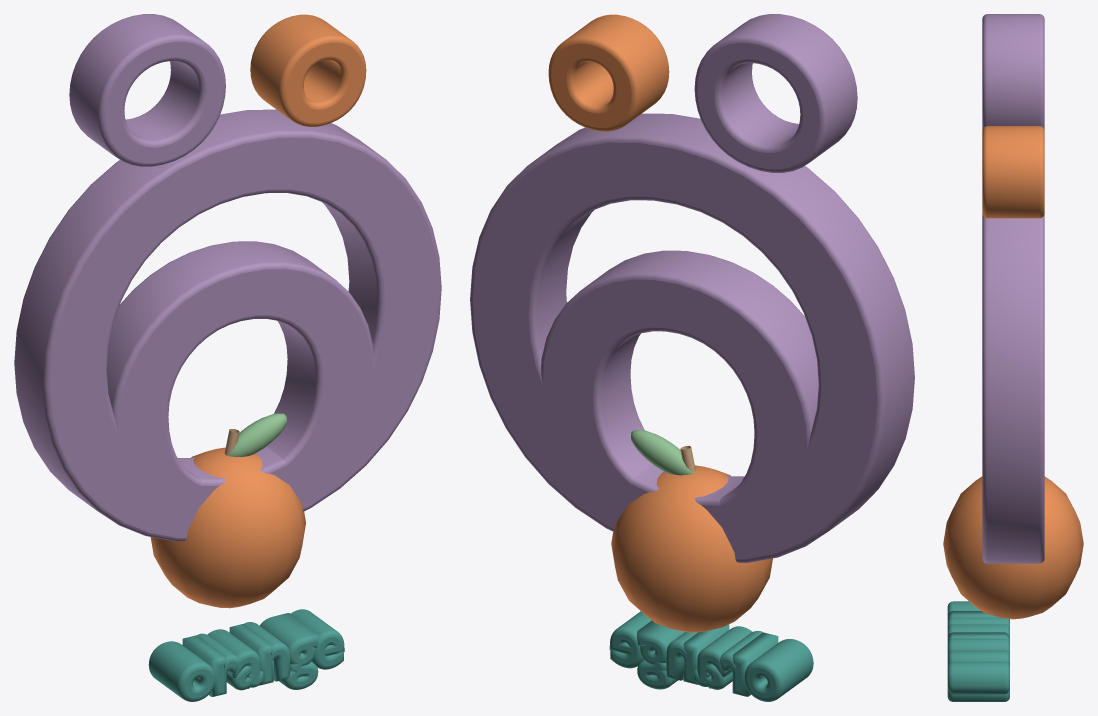
Rendered from letter-o.glb.
3 views of the same model, side by side, from view 1: azimuth 30°, elevation 25°; view 2: azimuth 150°, elevation 25°; view 3: azimuth 270°, elevation 25° (orthographic). The views are drawn at different scales.
Parts seen in each view (by area): view 1: letter solid, letter solid.001, uppercase solid, orange, example word, lowercase solid, fruit leaf; view 2: letter solid, letter solid.001, uppercase solid, orange, example word, lowercase solid, fruit leaf; view 3: letter solid, orange, uppercase solid, example word, lowercase solid.
Boxes of the visible parts, bbox=[...] form: letter solid: bbox=[14, 109, 441, 541]; letter solid.001: bbox=[106, 241, 373, 533]; uppercase solid: bbox=[69, 14, 225, 166]; orange: bbox=[150, 447, 305, 608]; example word: bbox=[148, 609, 344, 701]; lowercase solid: bbox=[250, 14, 366, 126]; fruit leaf: bbox=[225, 413, 286, 456]; letter solid: bbox=[470, 113, 914, 562]; letter solid.001: bbox=[541, 250, 818, 554]; uppercase solid: bbox=[694, 14, 857, 172]; orange: bbox=[611, 465, 772, 632]; example word: bbox=[609, 611, 813, 701]; lowercase solid: bbox=[548, 14, 669, 131]; fruit leaf: bbox=[631, 430, 695, 475]; letter solid: bbox=[982, 214, 1044, 563]; orange: bbox=[943, 476, 1083, 619]; uppercase solid: bbox=[982, 14, 1044, 129]; example word: bbox=[947, 601, 1009, 701]; lowercase solid: bbox=[982, 126, 1044, 218].
Bounding box in the file's own units: 1.24 × 1.99 × 0.406.
